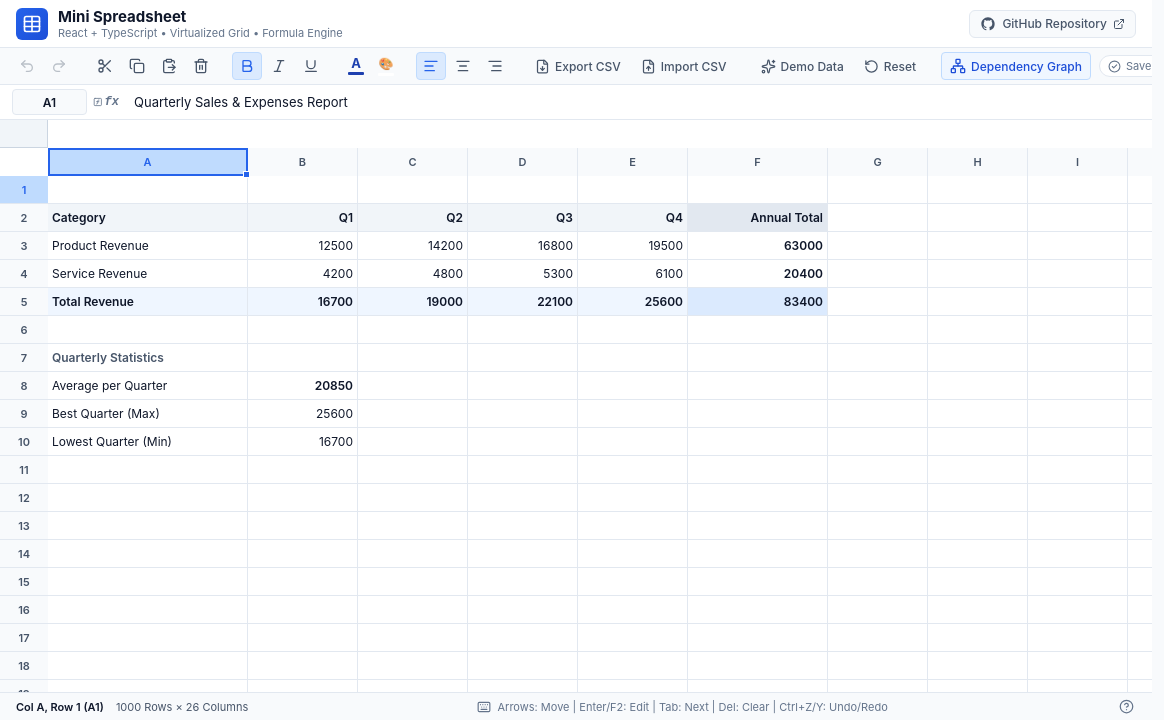
it: Recruiter Comprehensive End-to-End Evaluation › 2. Cell Navigation & Formula Bar: Updates coordinate and value on cell selection
Expected: the field named "Active Cell Address" holds "A1", [12,89,87,115]
Click the text "12500" at (336, 246), box [318,238,353,253]
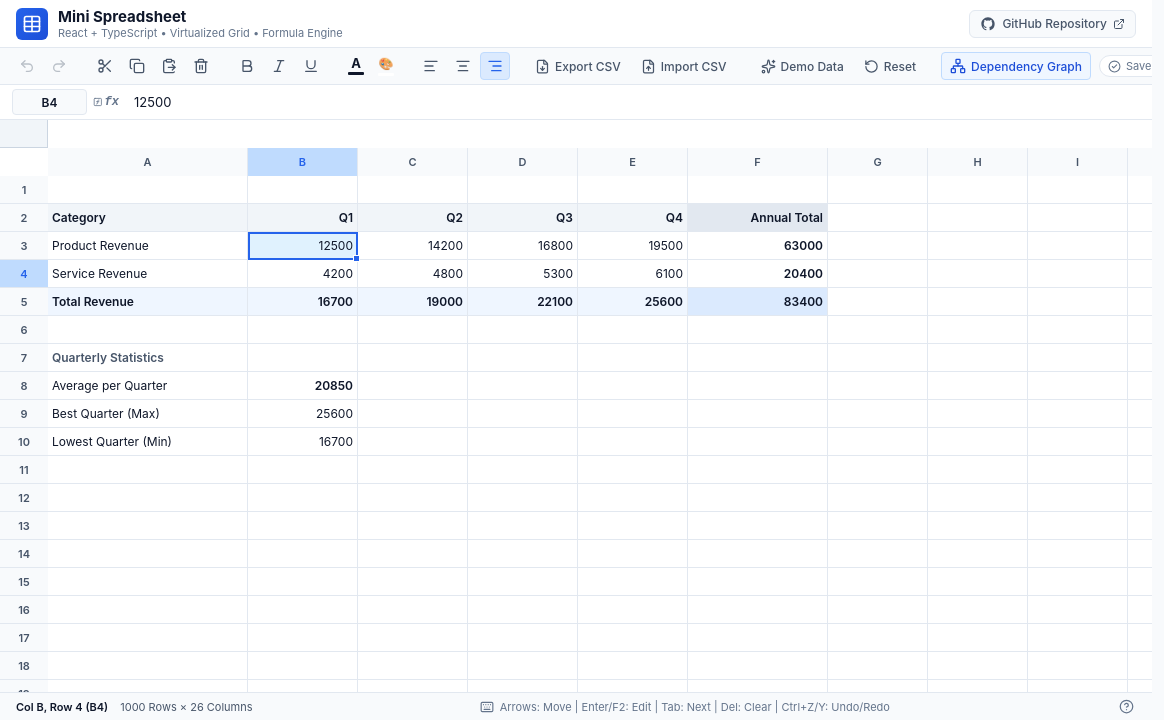
Now the field named "Active Cell Address" holds "B4", box [12,89,87,115]
Now the field named "Formula input bar" holds "12500", box [125,89,1140,115]
